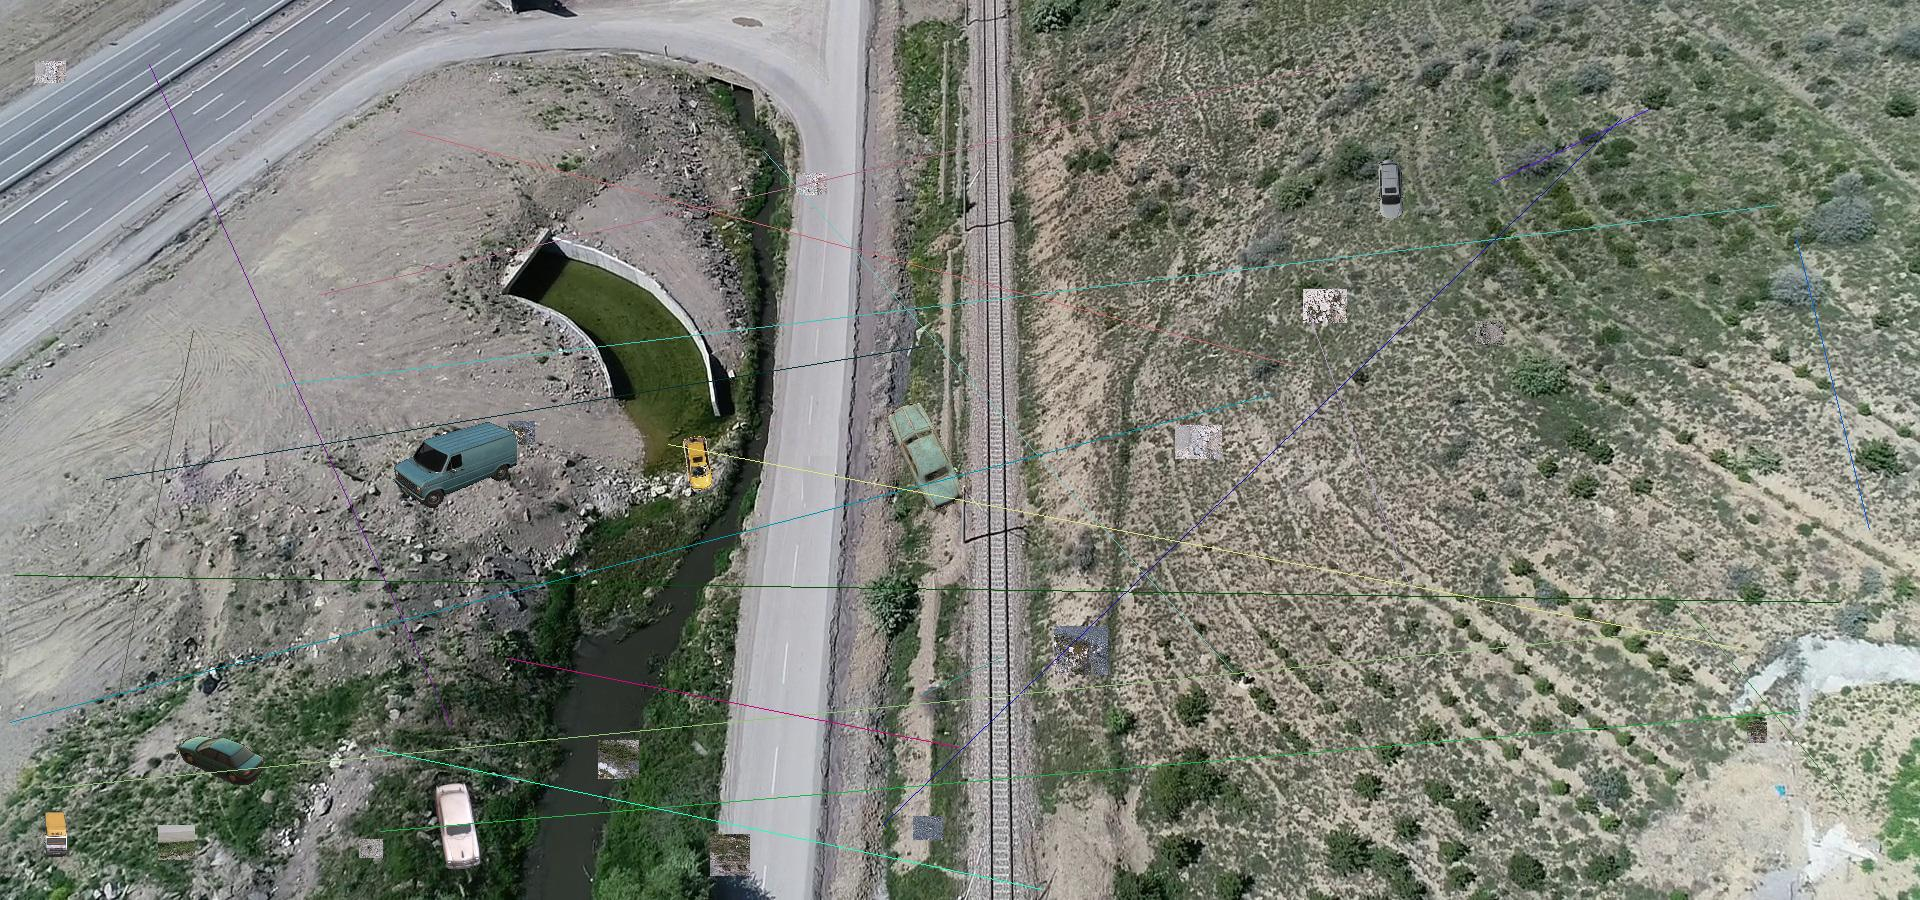arac: (876, 389, 975, 520), (392, 420, 517, 508), (429, 780, 489, 871), (175, 730, 266, 786), (680, 436, 715, 492), (1376, 159, 1404, 218), (44, 811, 71, 857)
